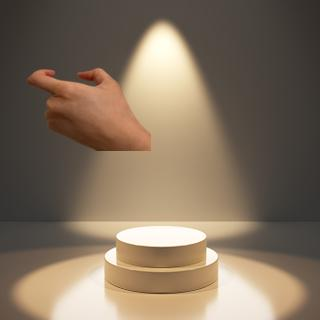HATE: (23, 62, 142, 150)
